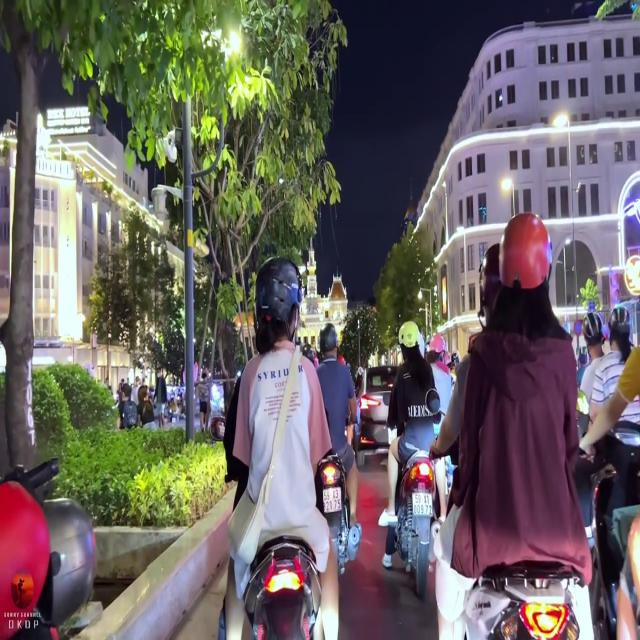bien_trang: (320, 481, 343, 513), (412, 485, 432, 517)
